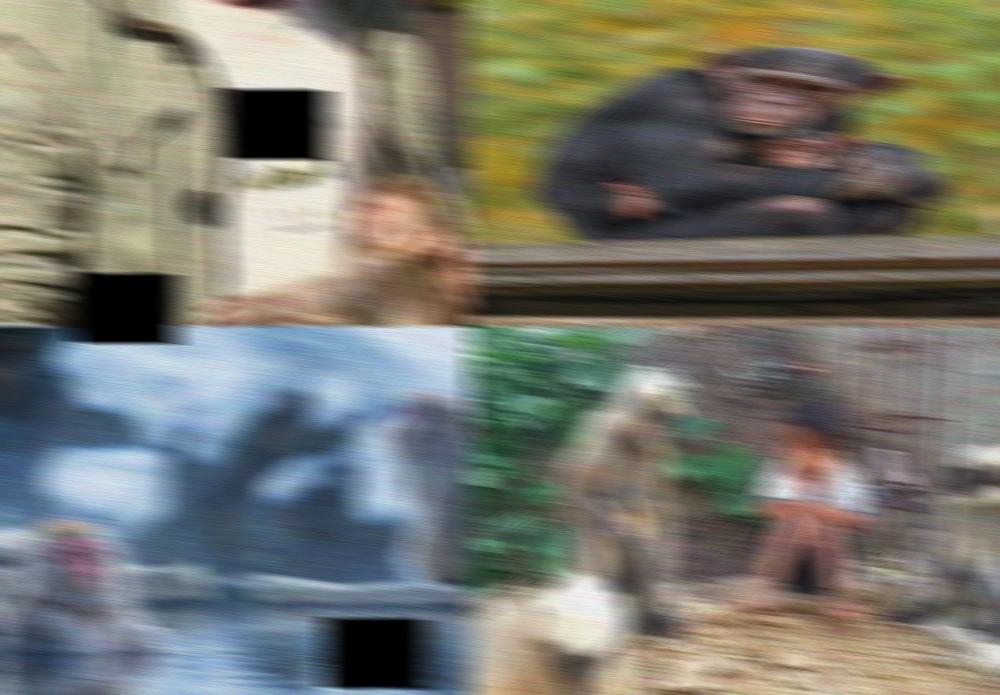Macaca fuscata: (200, 180, 475, 327), (556, 373, 693, 640), (0, 521, 174, 672), (887, 444, 1000, 642), (381, 388, 475, 604), (465, 576, 634, 692)
chimpanzee: (529, 44, 945, 234), (746, 131, 937, 212)
human: (0, 0, 475, 326), (742, 385, 865, 621)
